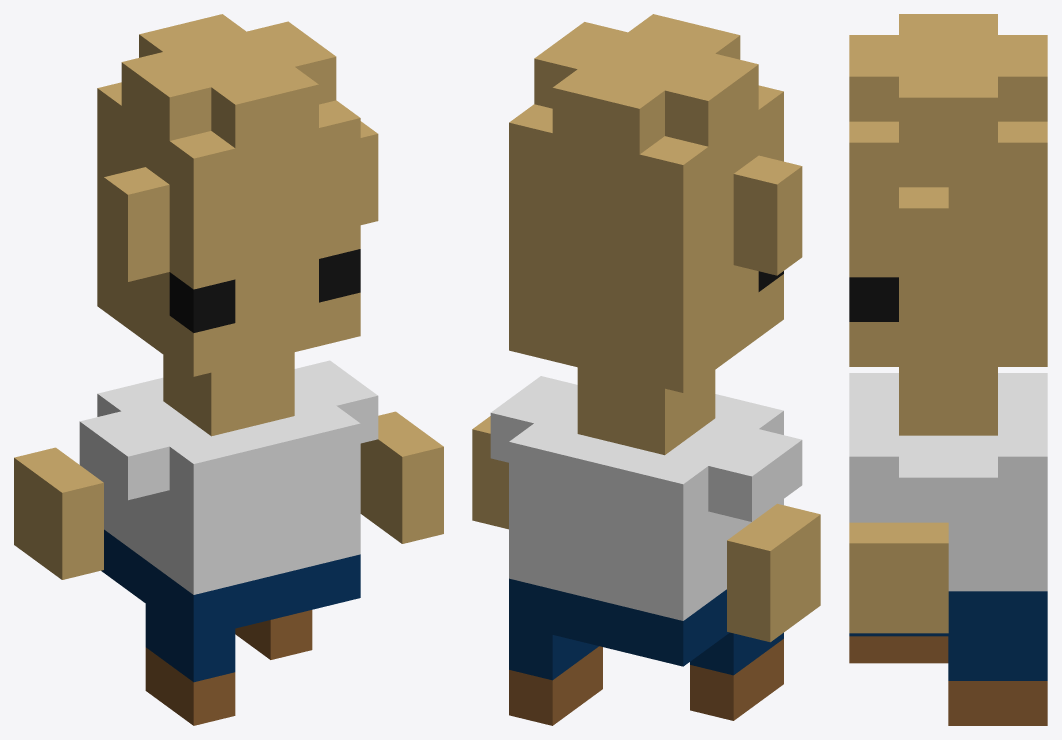
The model's file is titi-1.obj.
The picture shows the model from 3 angles, left to right: view 1: azimuth 30°, elevation 25°; view 2: azimuth 150°, elevation 25°; view 3: azimuth 270°, elevation 25°; orthographic projection. The views are drawn at different scales.
Bounding box in the file's own units: 0.8 × 1.4 × 0.4.
1 material, 1 textured.
